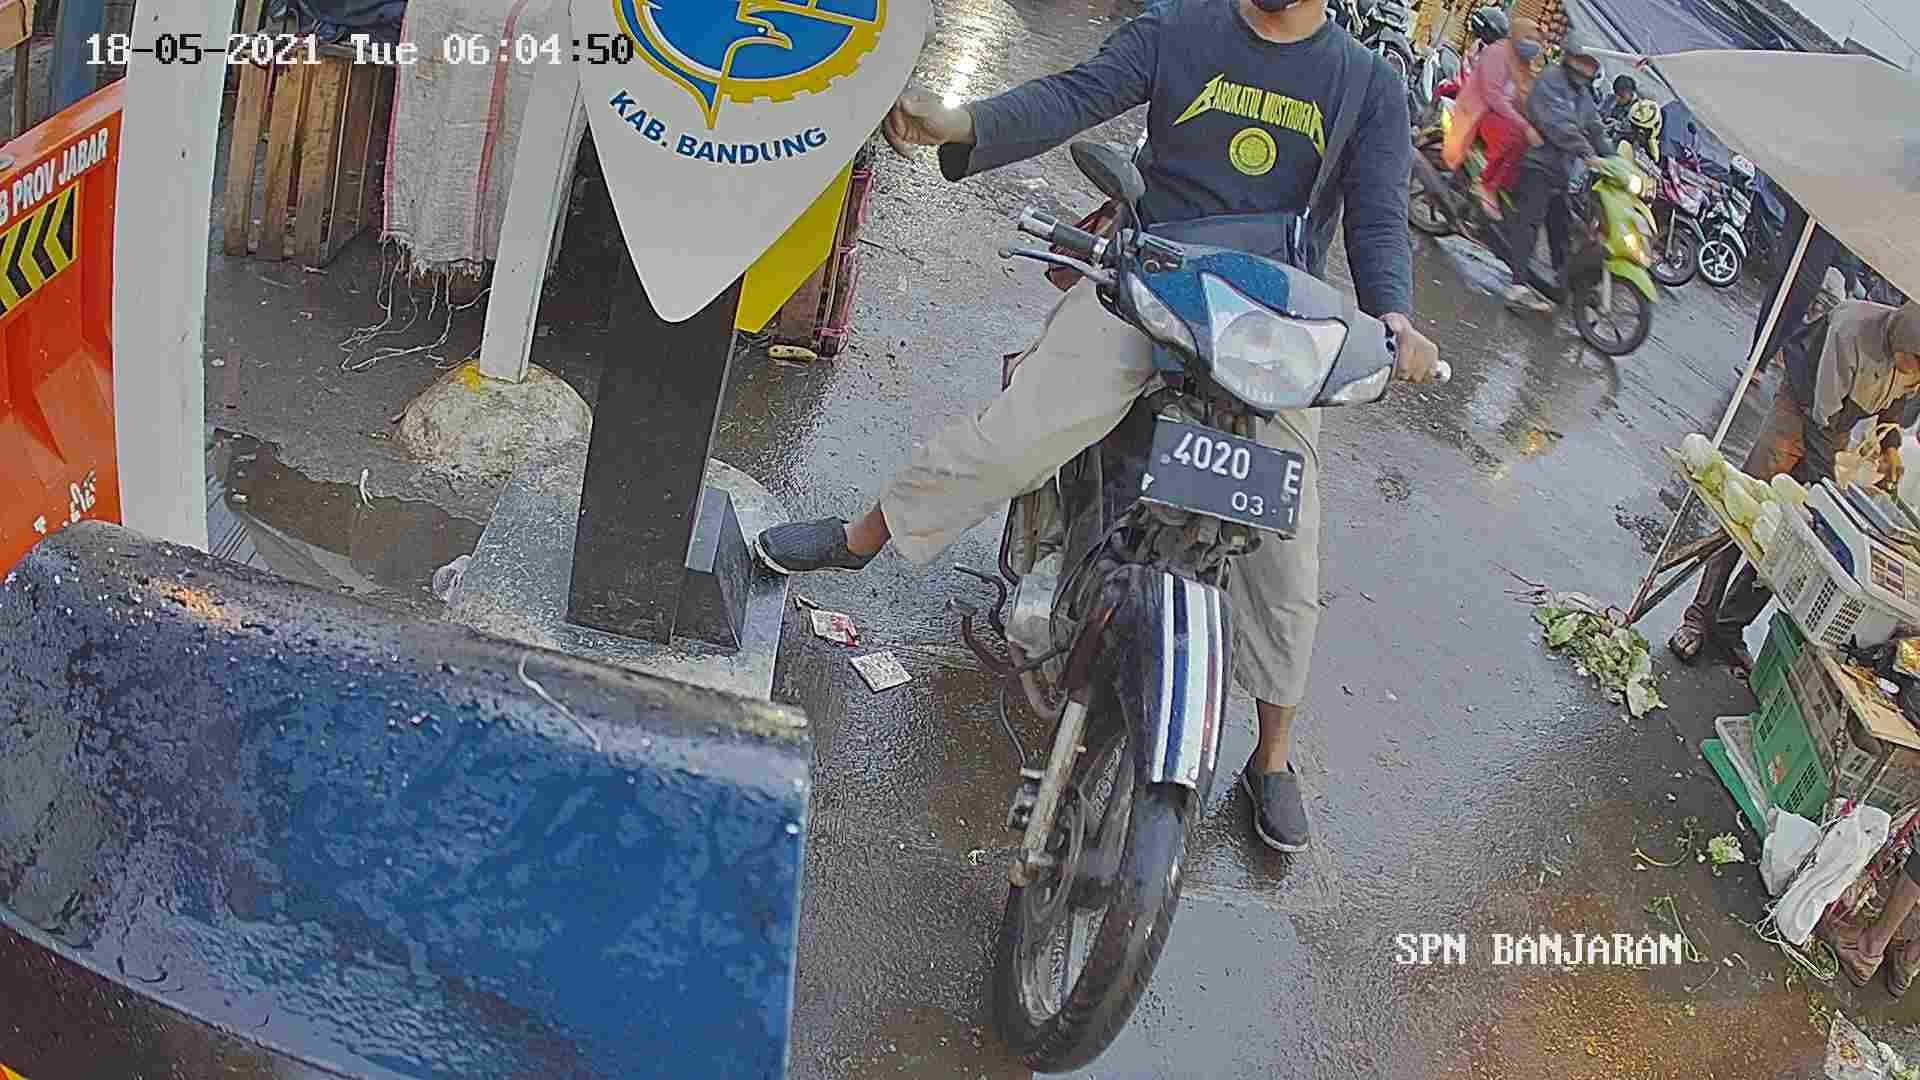motor: (949, 210, 1399, 1073)
